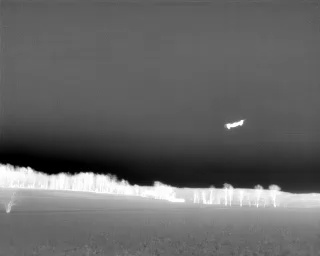DRONE: (221, 114, 249, 135)
